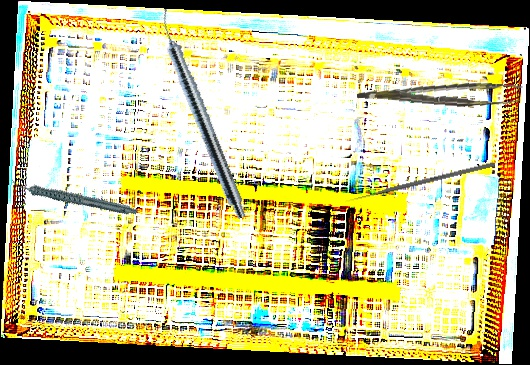Handpiece: (151, 7, 253, 221), (9, 154, 139, 240)
Pusher: (344, 161, 496, 204)
Tissue Forceps: (357, 71, 523, 113)
